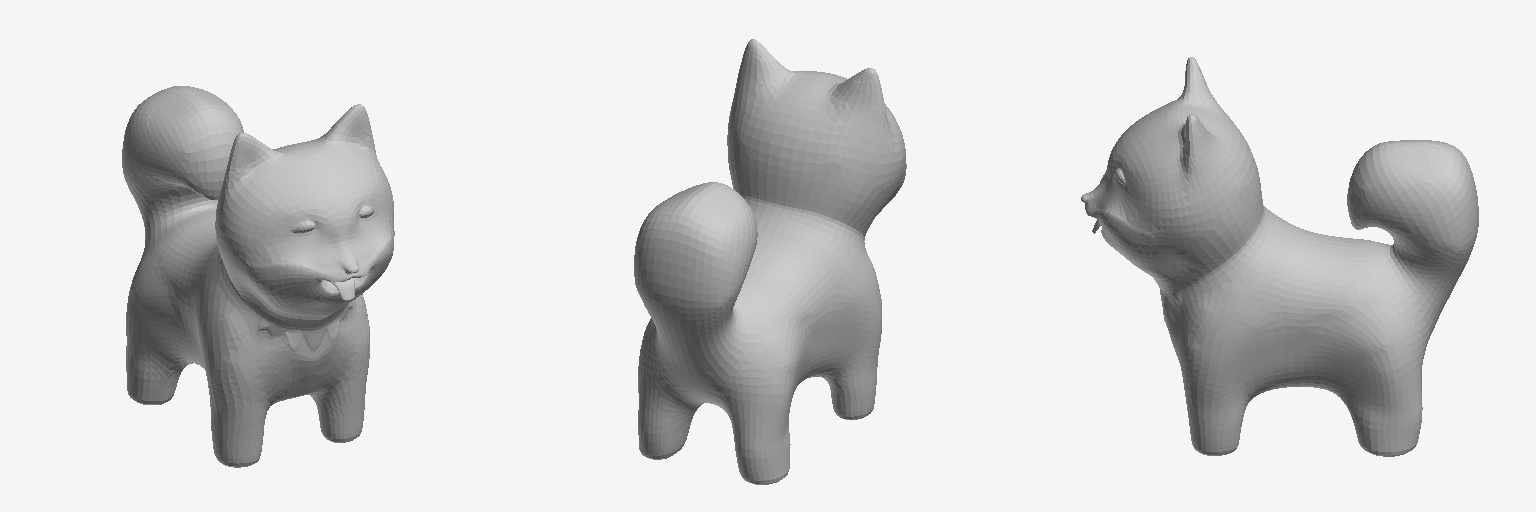
The model's file is shiba_dog.obj.
3 views of the same model, side by side, from view 1: azimuth 30°, elevation 25°; view 2: azimuth 150°, elevation 25°; view 3: azimuth 270°, elevation 25° (orthographic).
Visible parts, largest first — view 1: Shiba_inu; view 2: Shiba_inu; view 3: Shiba_inu.
Part boxes in pixels (x1,y1,x2,y2): Shiba_inu: (122, 86, 394, 467); Shiba_inu: (634, 39, 906, 484); Shiba_inu: (1081, 57, 1478, 456).
Size of the model in its own units: 0.1279 by 0.2521 by 0.2684.